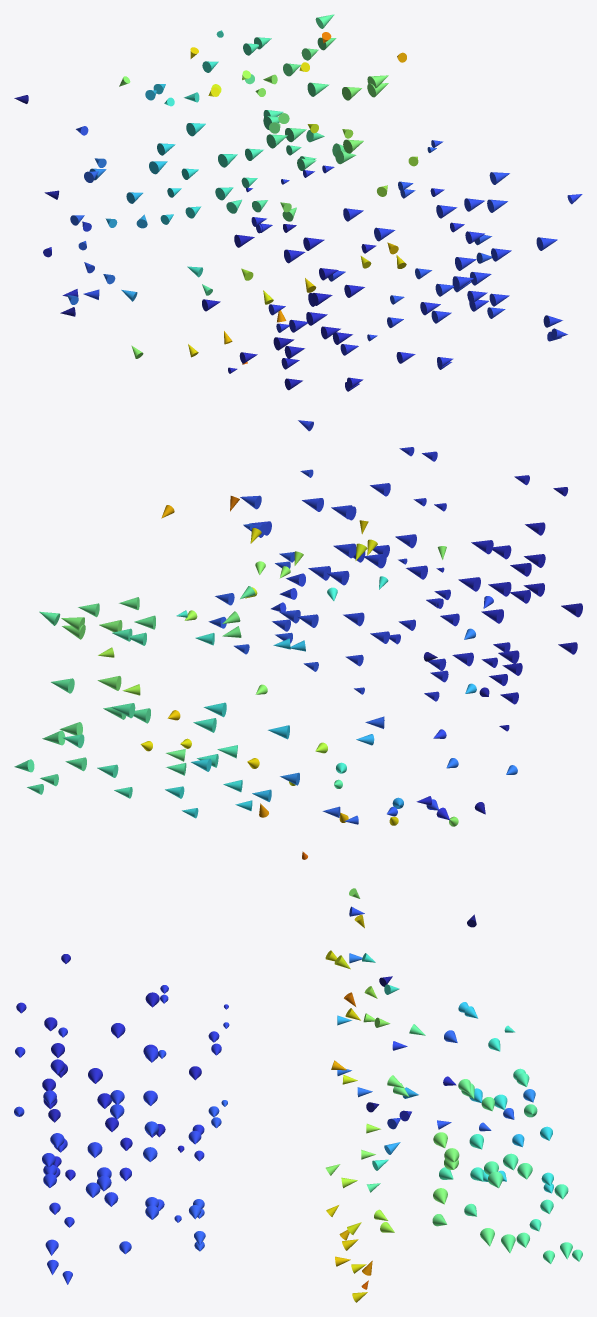
Rendered from LineasCorrienteN2-H2O_mh2-6.88_V-1.glb.
The picture shows the model from 3 angles, top to bottom: view 1: azimuth 30°, elevation 25°; view 2: azimuth 150°, elevation 25°; view 3: azimuth 270°, elevation 25°; orthographic projection. The views are drawn at different scales.
Bounding box in the file's own units: 0.000963 × 0.000813 × 0.00121.
2 materials, 2 textured.
